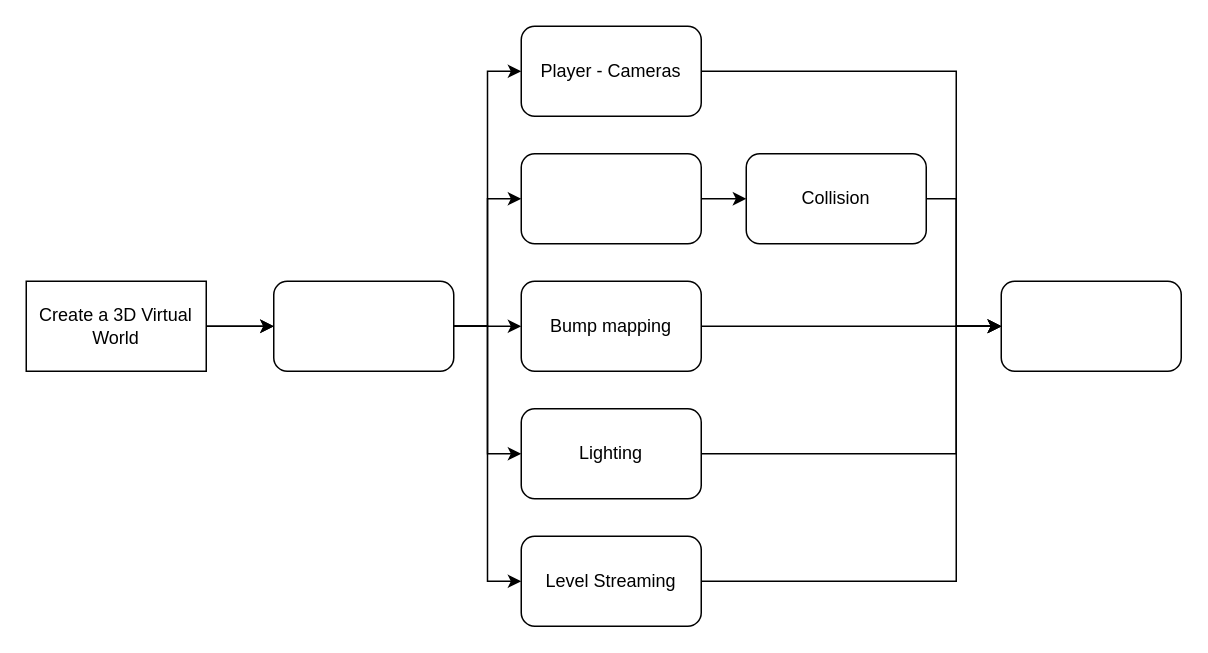
Image size: 1208x653. Some labels were removed from this diagram. Each missing label, with the box of its shape:
Buid/Package: (1000, 280, 1181, 371)
Data preparation: (272, 280, 454, 371)
Interact/Box trigger: (520, 152, 701, 244)
